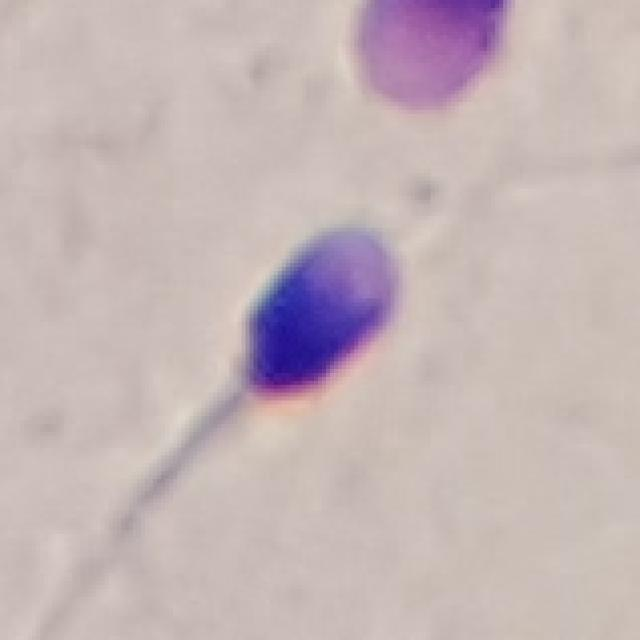normal sperm: (183, 225, 401, 454)
